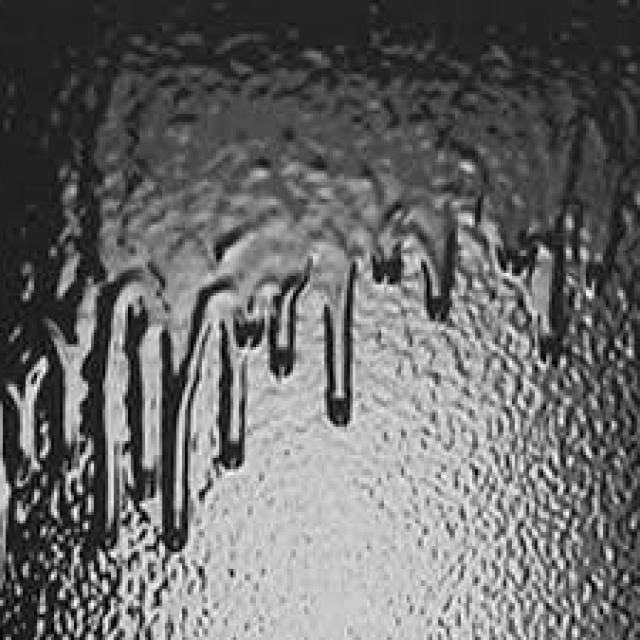paint drips: (88, 223, 249, 568), (413, 142, 629, 374), (17, 171, 118, 585), (300, 170, 456, 436), (210, 203, 343, 492)
